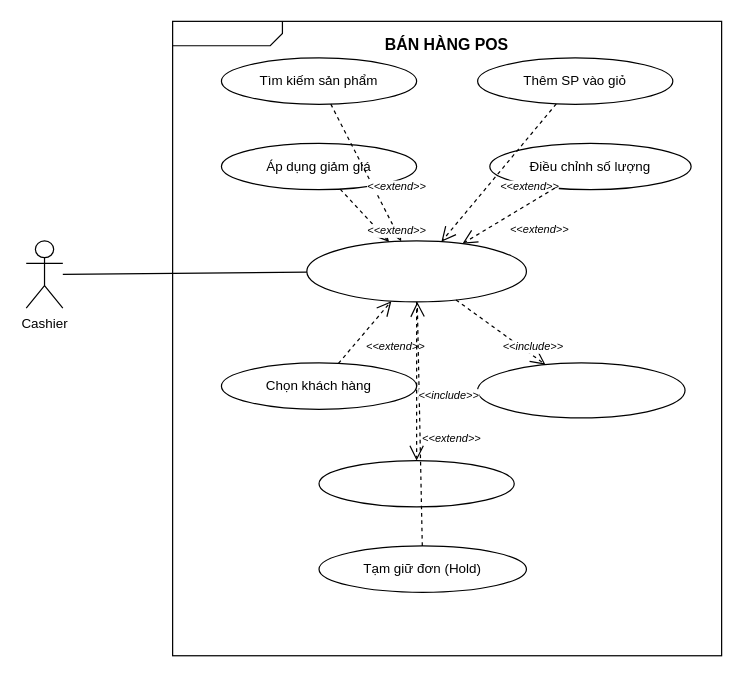
Some shapes in this 743 by 677 pixel diagram are drawn without their labels. The shapes that lost their labels are listed below. From the top down, each one's centre as x and y in pixels, then its label:
[416,271]: Bán hàng POS (from Model)
[580,390]: Thanh toán (CASH/CARD/UPI)
[416,483]: Tạo đơn hàng
